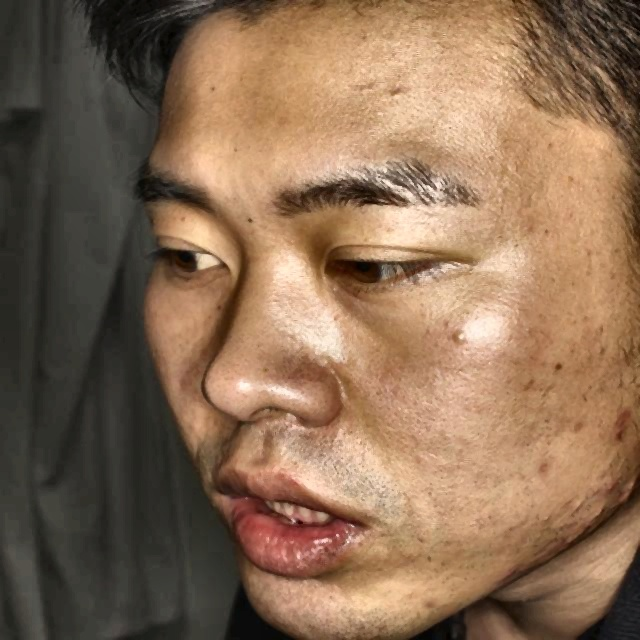pustule: (533, 454, 574, 482), (609, 404, 634, 442), (557, 412, 591, 437), (600, 480, 624, 510), (382, 78, 405, 103), (555, 523, 580, 545)
